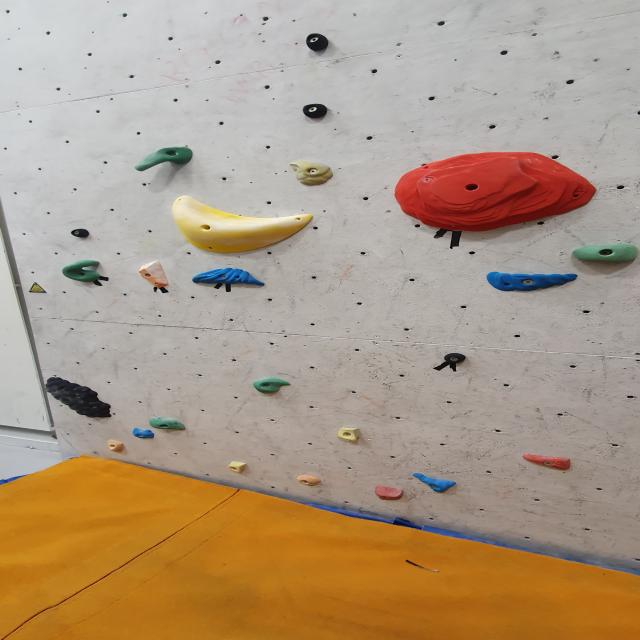Crimp: (392, 154, 607, 235), (484, 271, 583, 291), (190, 268, 267, 288), (288, 160, 337, 188), (518, 454, 576, 470), (412, 475, 459, 494), (131, 428, 157, 440), (295, 474, 321, 486)
Jug: (43, 377, 116, 420), (572, 243, 640, 266), (131, 148, 197, 170), (59, 260, 104, 286), (252, 379, 294, 395), (148, 418, 190, 432)
Pinch: (138, 256, 174, 294), (302, 99, 332, 120), (304, 33, 333, 53), (442, 353, 470, 366), (106, 440, 126, 456), (67, 229, 93, 241)
Sloper: (167, 195, 316, 255), (373, 486, 406, 502), (228, 461, 248, 473)
